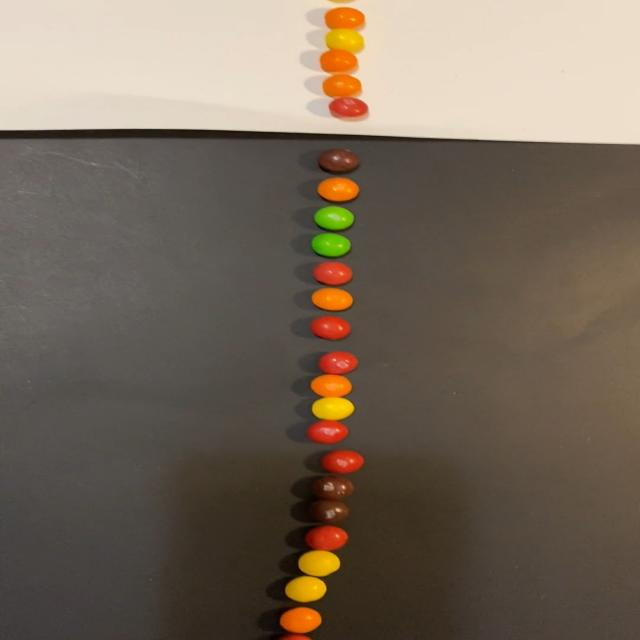smartie: (297, 551, 340, 578), (284, 577, 326, 604), (279, 608, 321, 634), (305, 526, 347, 552), (316, 177, 359, 202), (312, 477, 354, 501), (306, 420, 348, 444), (308, 501, 348, 526), (324, 27, 364, 52), (311, 398, 354, 421), (313, 206, 354, 230), (317, 149, 359, 172), (311, 288, 353, 311), (321, 451, 363, 474), (322, 73, 361, 97), (313, 262, 352, 286), (311, 233, 350, 257), (311, 375, 351, 398), (318, 352, 358, 375), (319, 48, 357, 72), (324, 6, 364, 28), (311, 317, 349, 340), (328, 97, 367, 117)
